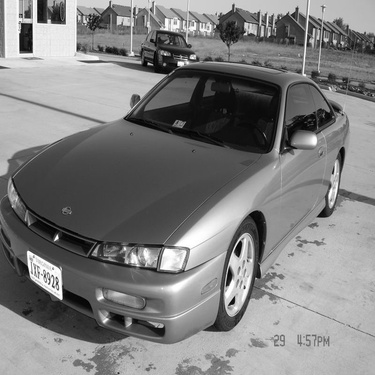car: (1, 55, 353, 350), (132, 27, 203, 77)
